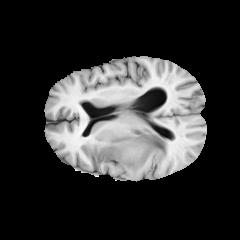glioma: (92, 128, 168, 176)
